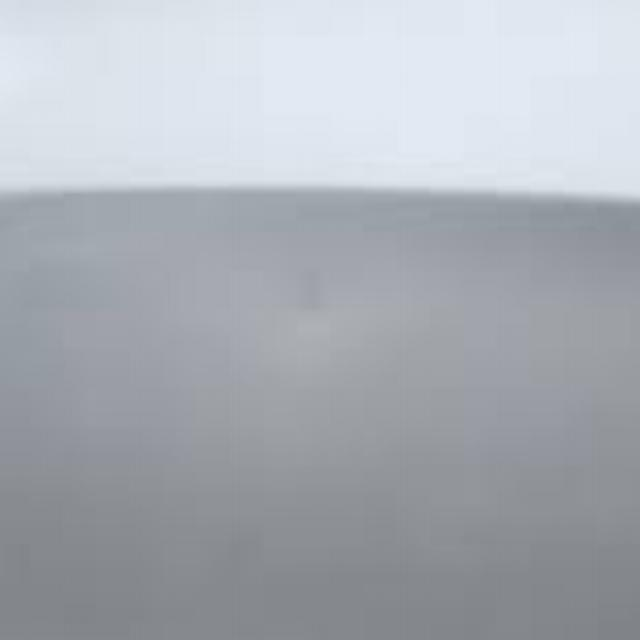dents: (278, 269, 364, 348)
